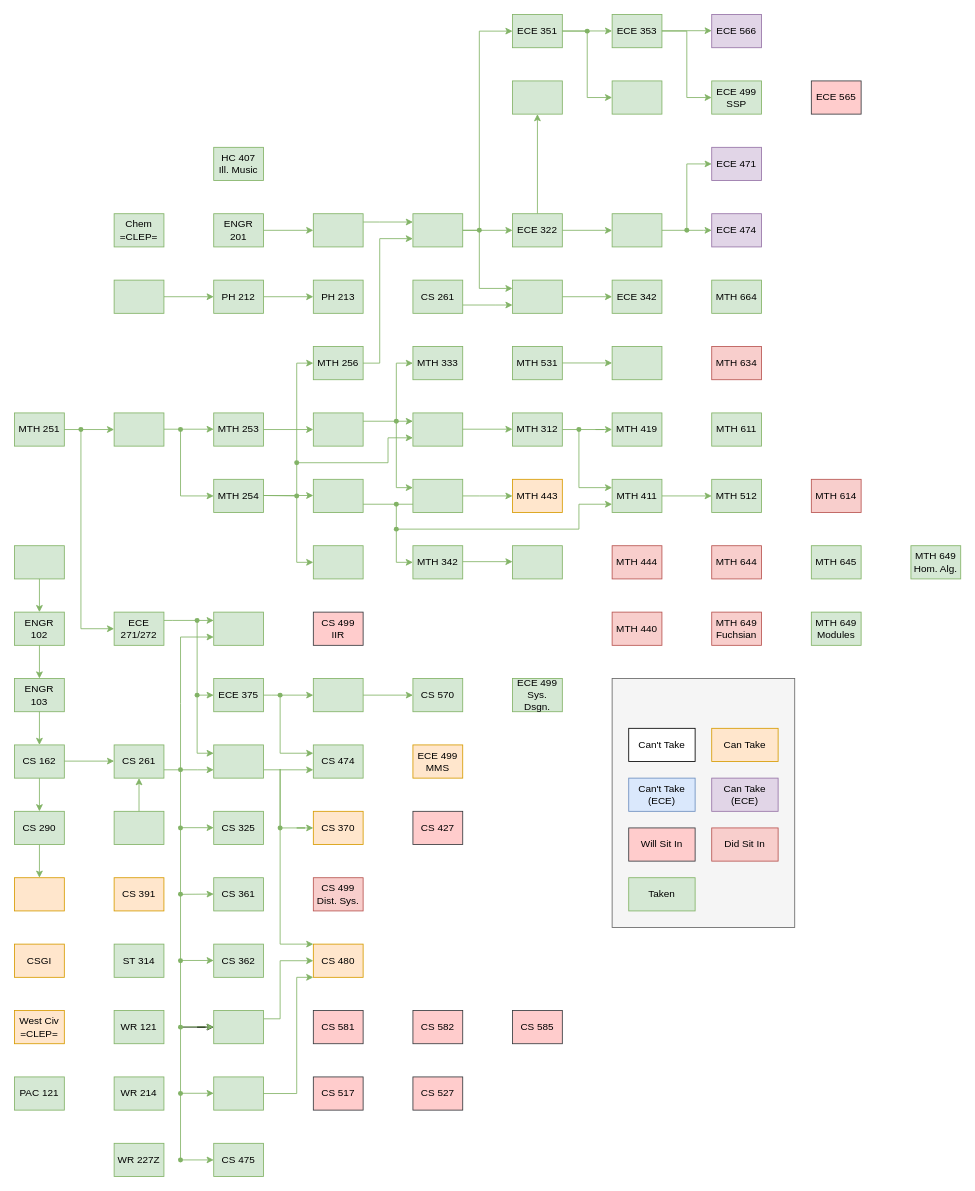
This 975x1191 diagram has some shape labels left out. The box of each missing label's shape, as (x1, y1, x2, y2) in pixels:
CS 321: (213, 1076, 264, 1110)
CS 340: (14, 877, 64, 911)
CS 372: (213, 611, 264, 645)
CS 374: (213, 744, 264, 778)
CS 381: (213, 1010, 264, 1044)
CS 472: (312, 678, 363, 712)
ECE 323: (611, 213, 662, 247)
ECE 341: (512, 279, 562, 313)
ECE 352: (611, 80, 662, 114)
ECE 391: (512, 80, 562, 114)
ENGR 100: (14, 545, 64, 579)
ENGR 202: (312, 213, 363, 247)
ENGR 203: (412, 213, 463, 247)
KEY: (611, 678, 795, 928)
MTH 231: (113, 810, 164, 845)
MTH 252: (113, 412, 164, 446)
MTH 255: (312, 545, 363, 579)
MTH 310: (312, 412, 363, 446)
MTH 311: (412, 412, 463, 446)
MTH 341: (312, 478, 363, 513)
MTH 343: (412, 478, 463, 513)
MTH 499 MoDS: (512, 545, 562, 579)
MTH 532: (611, 346, 662, 380)
PH 211: (113, 279, 164, 313)
